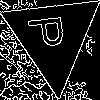P: (28, 12, 73, 50)
